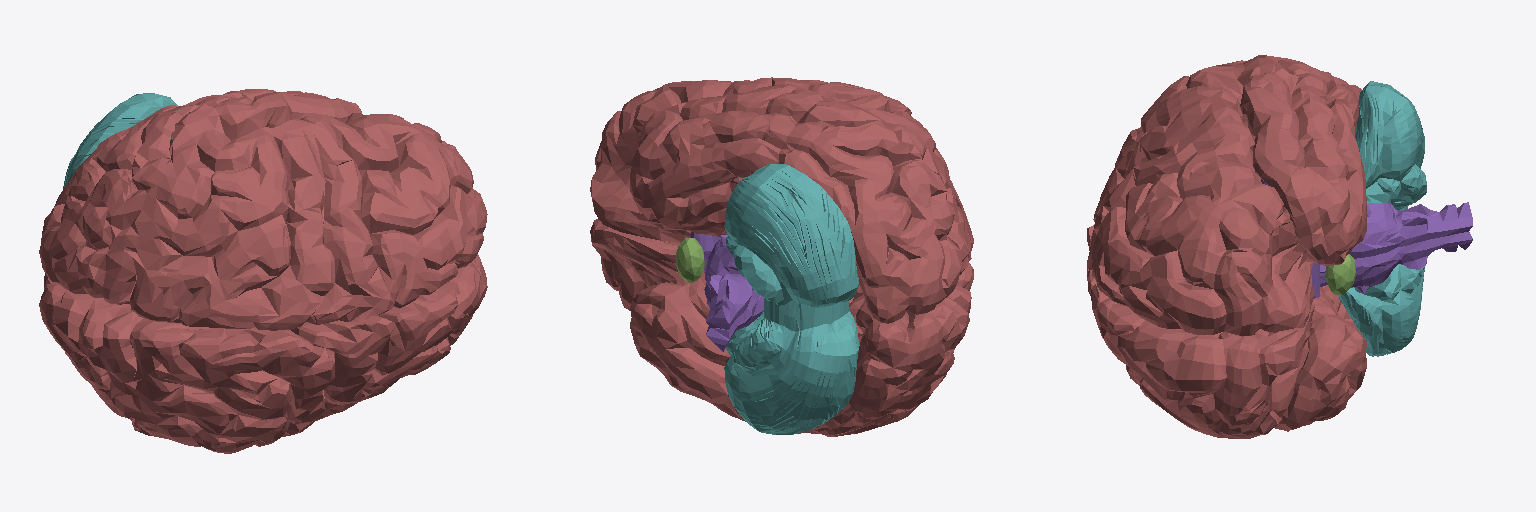
File: brain18KN.obj
The picture shows the model from 3 angles: view 1: azimuth 30°, elevation 25°; view 2: azimuth 150°, elevation 25°; view 3: azimuth 270°, elevation 25°; orthographic projection.
Bounding box in the file's own units: 6.42 × 5.28 × 5.62.